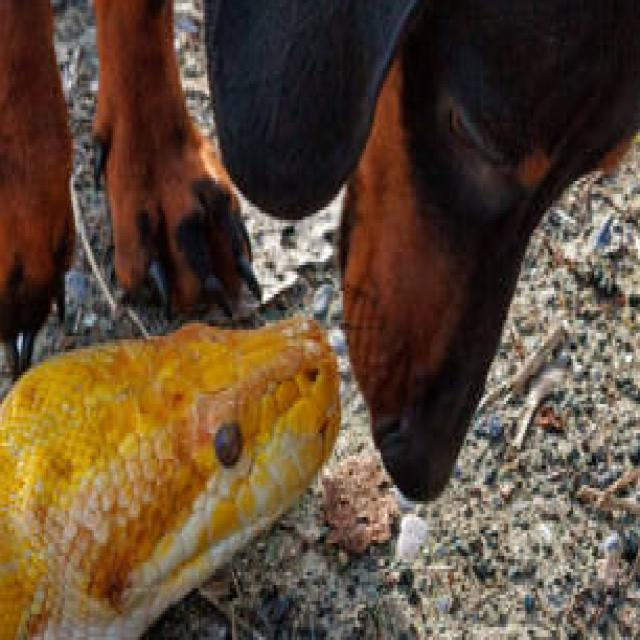Snake: (0, 307, 341, 640)
